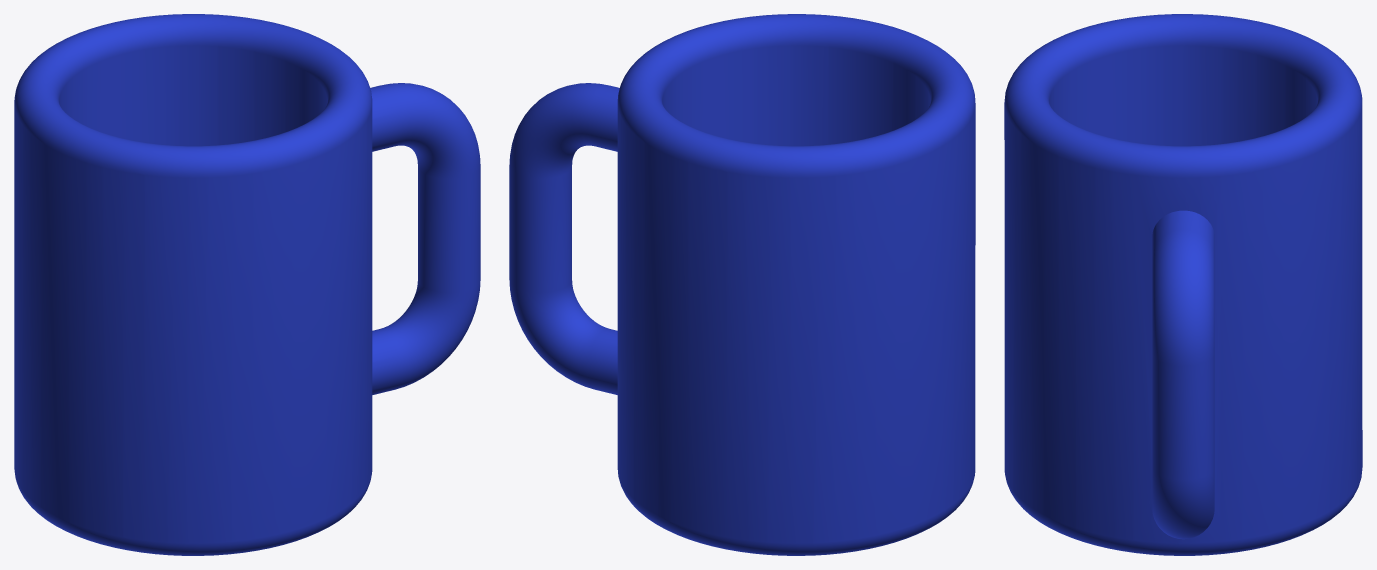
3 renders of one model, left to right at view 1: azimuth 30°, elevation 25°; view 2: azimuth 150°, elevation 25°; view 3: azimuth 270°, elevation 25°, orthographic.
Visible parts, largest first — view 1: Mug_Mesh.1; view 2: Mug_Mesh.1; view 3: Mug_Mesh.1.
Part boxes in pixels (x1=…): Mug_Mesh.1: x1=14, y1=14, x2=480, y2=555; Mug_Mesh.1: x1=509, y1=14, x2=975, y2=555; Mug_Mesh.1: x1=1004, y1=14, x2=1362, y2=555.
Bounding box in the file's own units: 0.2825 × 0.25 × 0.2.
1 material, 1 textured.
